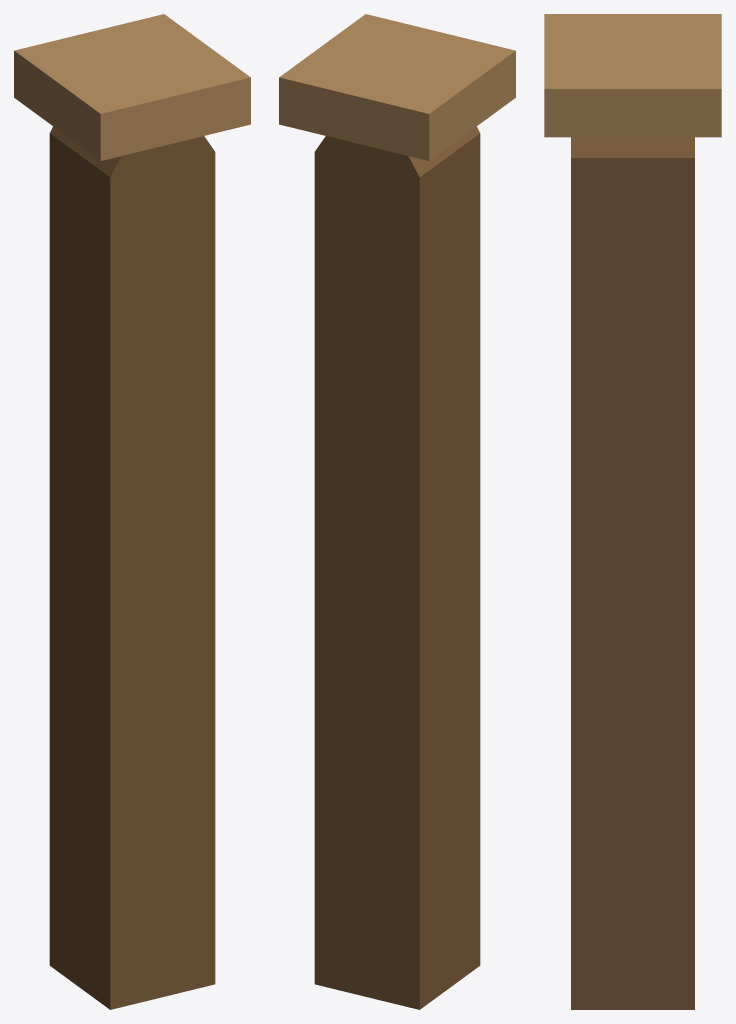
Rendered from TW_WOOD_END_CAP_A_LOD0.glb.
The picture shows the model from 3 angles, left to right: view 1: azimuth 30°, elevation 25°; view 2: azimuth 150°, elevation 25°; view 3: azimuth 270°, elevation 25°; orthographic projection. The views are drawn at different scales.
Parts seen in each view (by area): view 1: TW_WOOD_END_CAP_A_LOD0; view 2: TW_WOOD_END_CAP_A_LOD0; view 3: TW_WOOD_END_CAP_A_LOD0.
Boxes of the visible parts, bbox=[...] form: TW_WOOD_END_CAP_A_LOD0: bbox=[14, 14, 250, 1009]; TW_WOOD_END_CAP_A_LOD0: bbox=[279, 14, 515, 1009]; TW_WOOD_END_CAP_A_LOD0: bbox=[544, 14, 721, 1009].
Size of the model in its own units: 0.2 by 1.16 by 0.2.
1 material, 1 textured.
